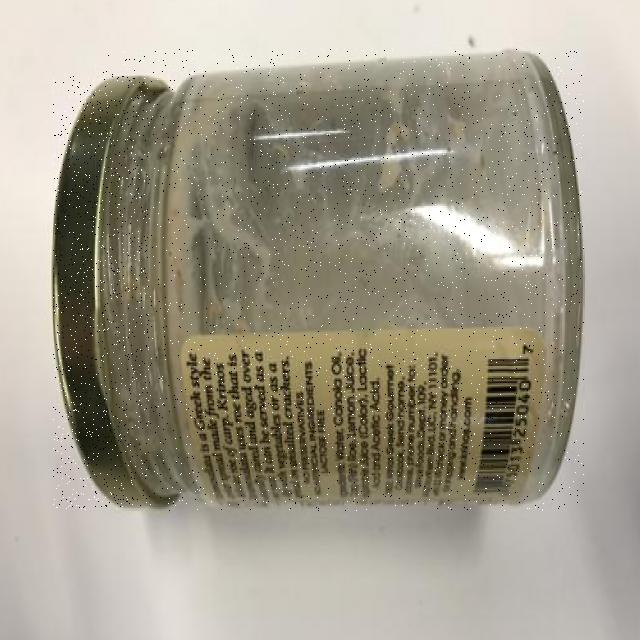glass: (95, 49, 584, 511)
metal: (54, 76, 149, 510)
